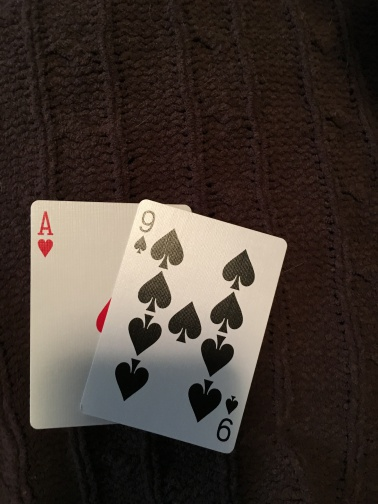ace: (31, 199, 125, 426)
nine: (85, 201, 287, 454)
